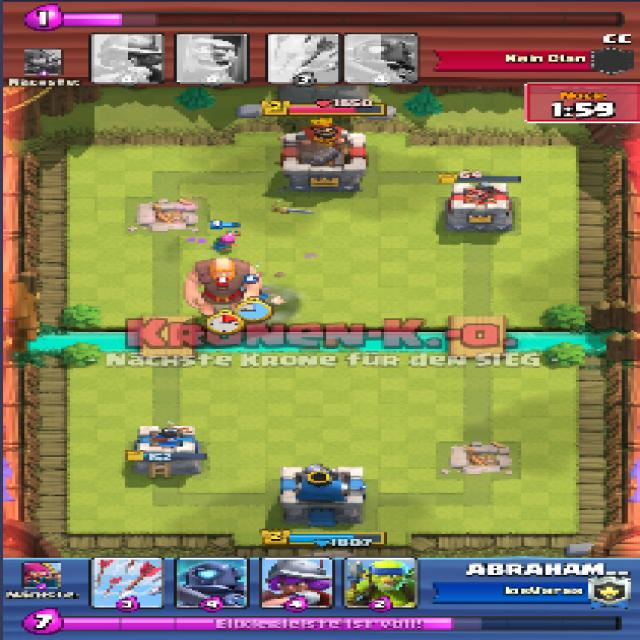Enemy-Giant: (188, 257, 263, 314)
Player-Archer: (206, 230, 241, 253)
Player-Knight: (238, 280, 280, 313)
